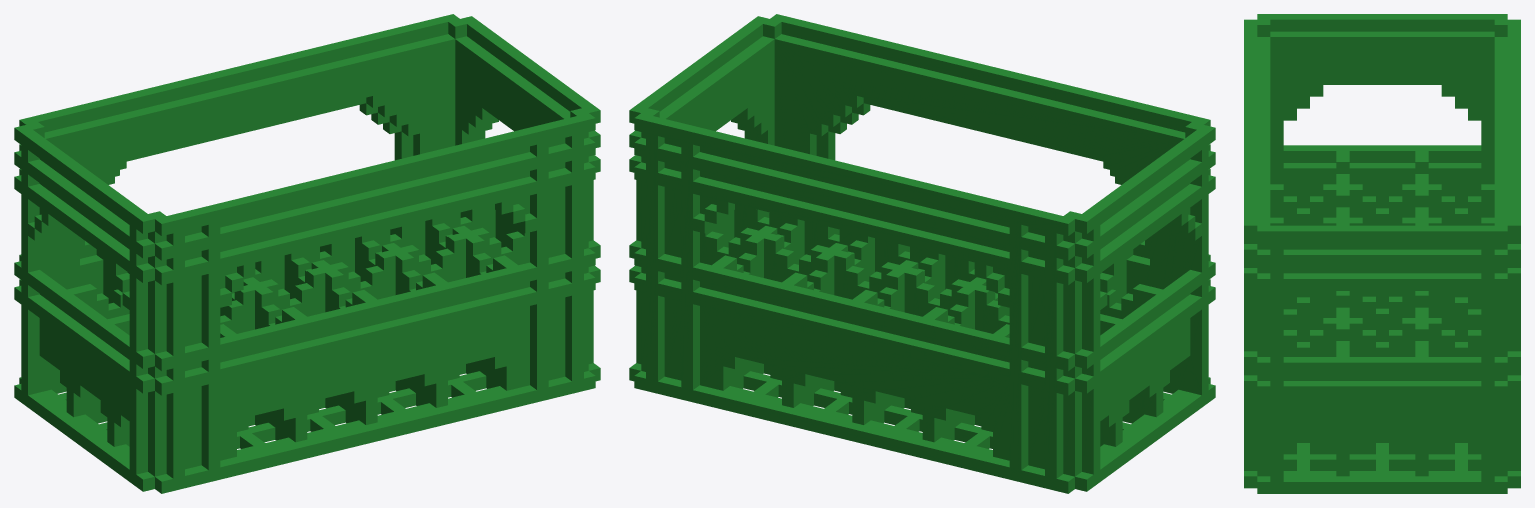
The model's file is BottleCrate-3.obj.
3 renders of one model, left to right at view 1: azimuth 30°, elevation 25°; view 2: azimuth 150°, elevation 25°; view 3: azimuth 270°, elevation 25°, orthographic. The views are drawn at different scales.
Size of the model in its own units: 3.9 by 2.2 by 2.1.
1 material, 1 textured.
